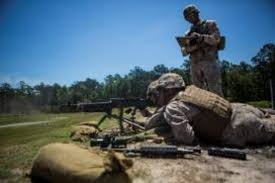gun: (52, 91, 154, 129)
